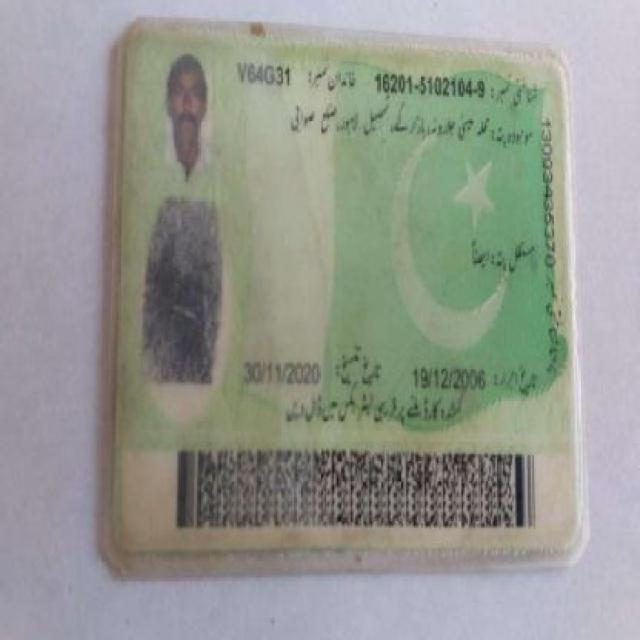Back: (102, 16, 583, 564)
